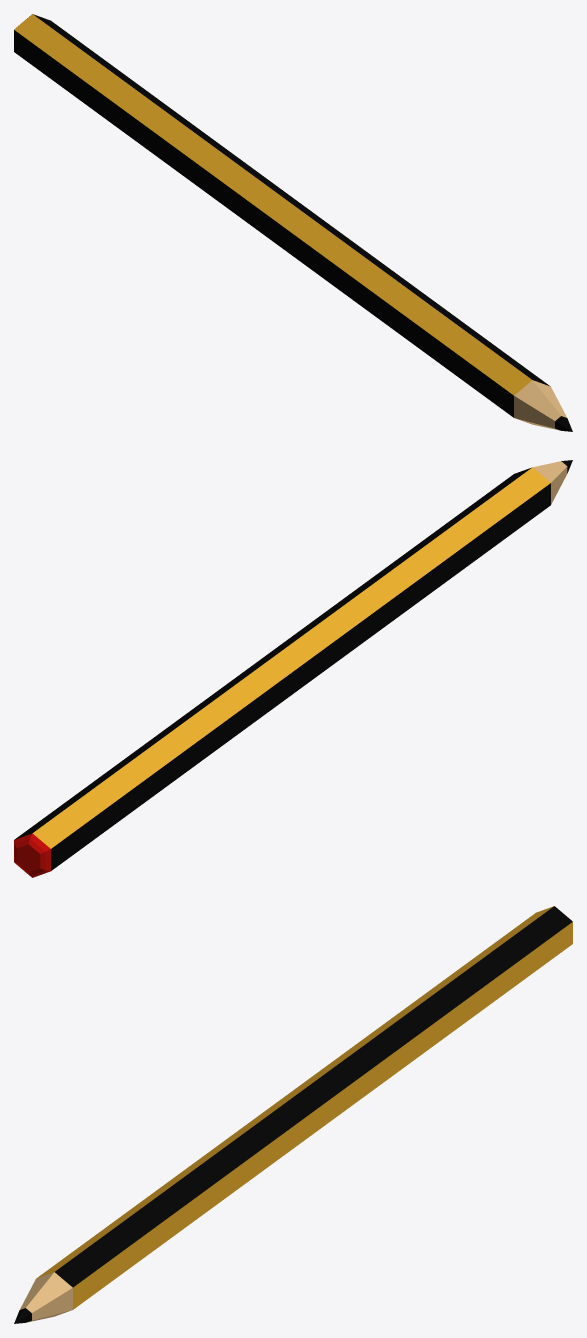
Rendered from H_Pencil.fbx.
3 views of the same model, one above another, from view 1: azimuth 30°, elevation 25°; view 2: azimuth 150°, elevation 25°; view 3: azimuth 330°, elevation 25° (orthographic).
Parts seen in each view (by area): view 1: H_Pencil; view 2: H_Pencil; view 3: H_Pencil.
Boxes of the visible parts, x1,y1,x2,y2 form: H_Pencil: [14, 14, 572, 431]; H_Pencil: [14, 460, 572, 877]; H_Pencil: [14, 906, 572, 1323].
Size of the model in its own units: 4.43 by 113 by 5.12.
